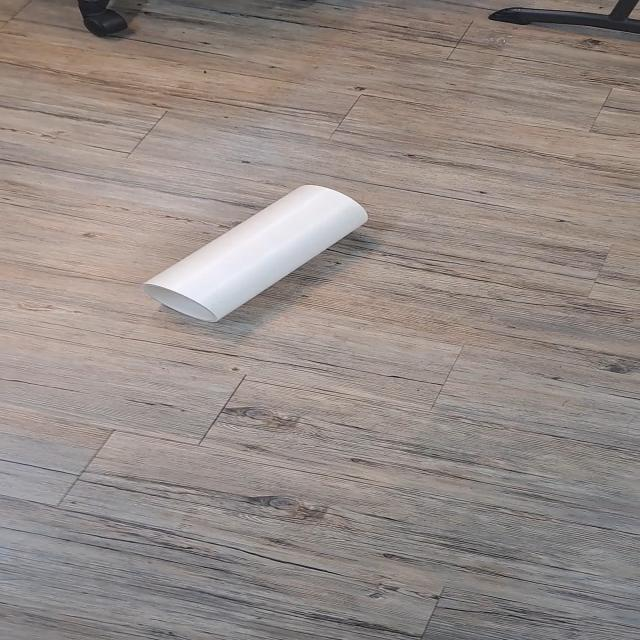CORAL: (130, 180, 383, 336)
